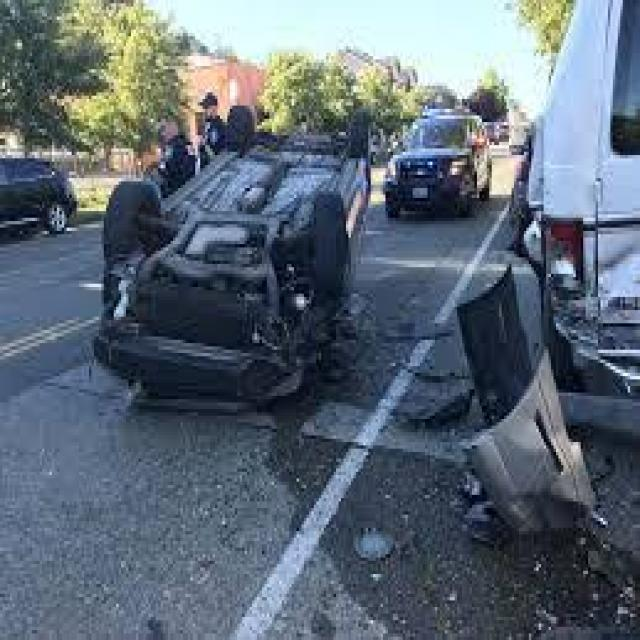accident: (90, 101, 377, 417)
